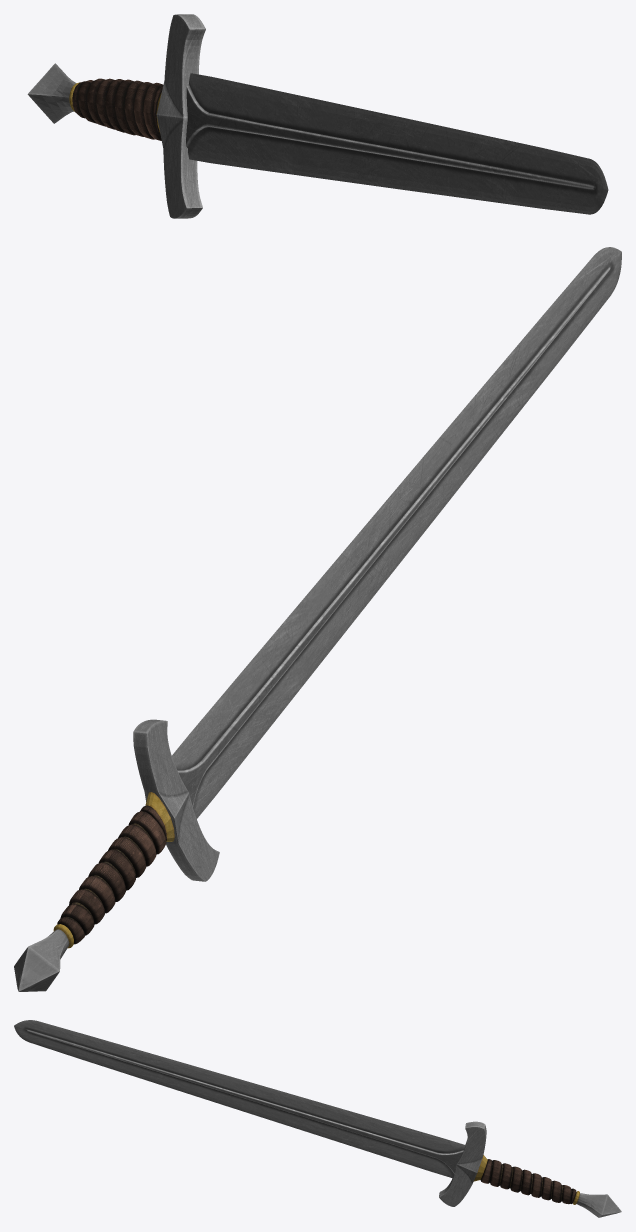
The model's file is Sword_01.fbx.
The picture shows the model from 3 angles, top to bottom: view 1: azimuth 30°, elevation 25°; view 2: azimuth 150°, elevation 25°; view 3: azimuth 270°, elevation 25°; orthographic projection. The views are drawn at different scales.
Visible parts, largest first — view 1: MRLN_Sword01_4985.Shape; view 2: MRLN_Sword01_4985.Shape; view 3: MRLN_Sword01_4985.Shape.
Boxes of the visible parts, left/top/right/bottom form: MRLN_Sword01_4985.Shape: left=27, top=14, right=608, bottom=218; MRLN_Sword01_4985.Shape: left=14, top=247, right=621, bottom=991; MRLN_Sword01_4985.Shape: left=14, top=1020, right=621, bottom=1217.
Size of the model in its own units: 4.96 by 27.9 by 80.24.
